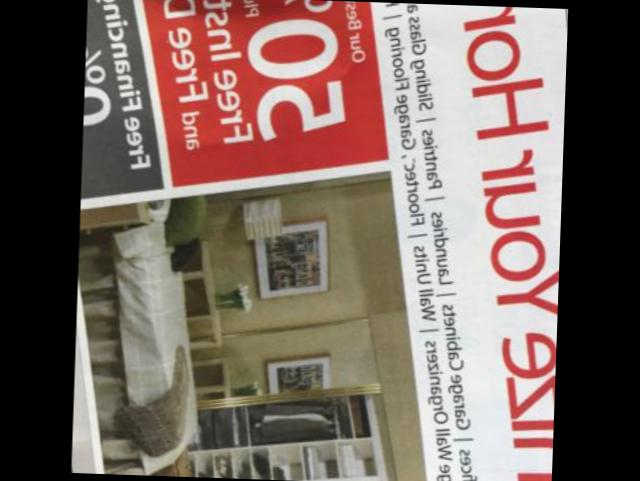cardboard paper: (71, 0, 569, 481)
